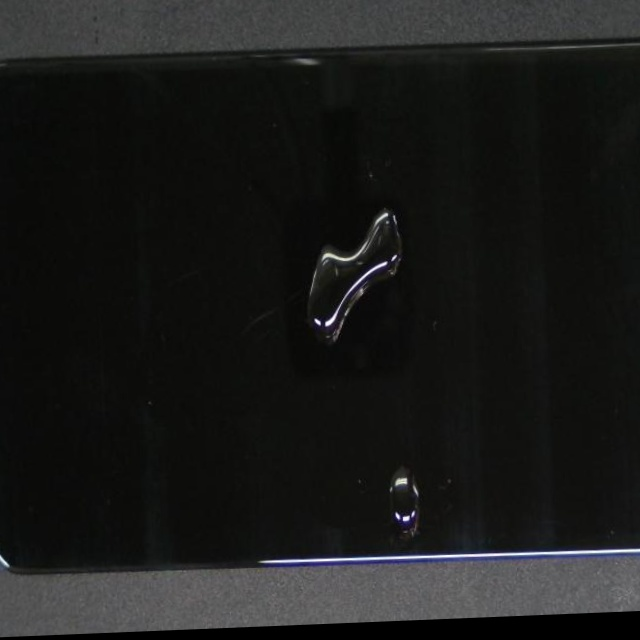oil: (200, 244, 640, 628), (100, 216, 558, 508)
